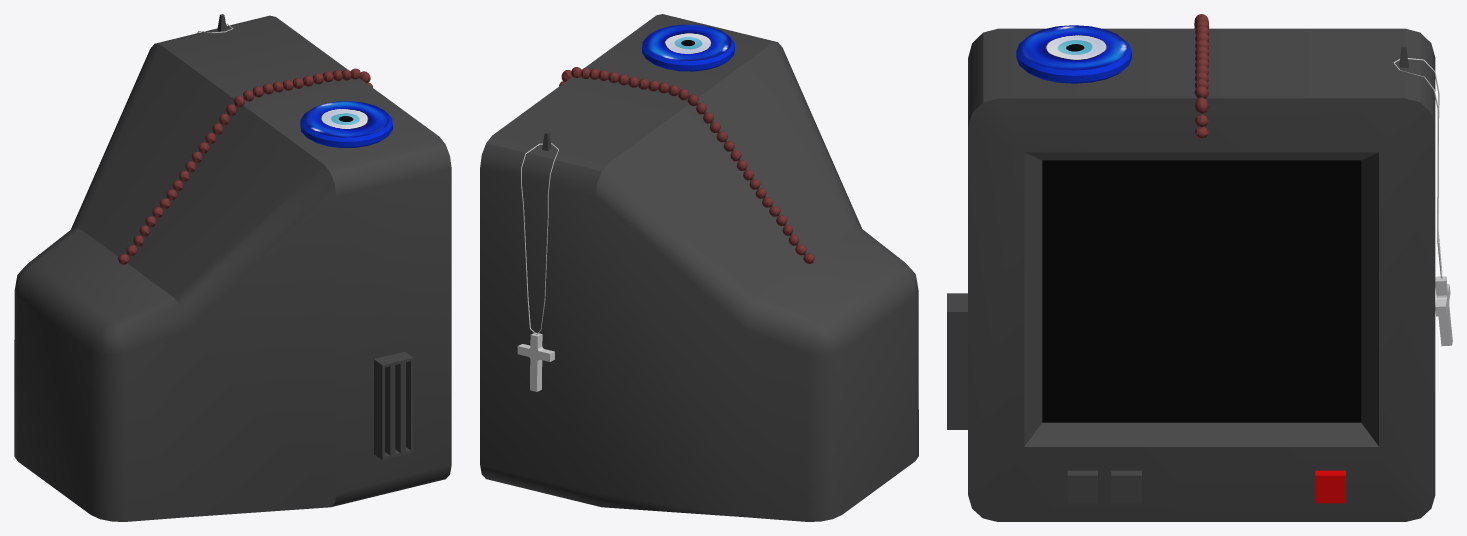
Rendered from Screen.fbx.
3 renders of one model, left to right at view 1: azimuth 30°, elevation 25°; view 2: azimuth 150°, elevation 25°; view 3: azimuth 270°, elevation 25°, orthographic. The views are drawn at different scales.
Parts seen in each view (by area): view 1: Cube.007; view 2: Cube.007; view 3: Cube.007.
Part boxes in pixels (left/top/right/bottom): Cube.007: left=14, top=14, right=451, bottom=521; Cube.007: left=480, top=14, right=918, bottom=521; Cube.007: left=947, top=14, right=1452, bottom=521.
Bounding box in the file's own units: 2048 × 2191 × 2269.
